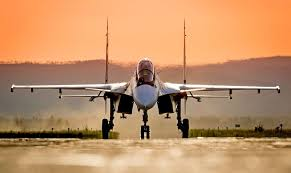fighter: (9, 13, 282, 139)
